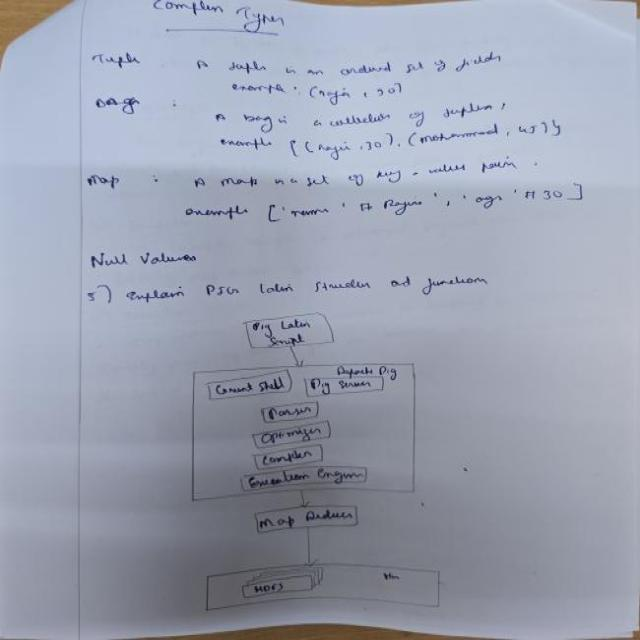Figure Detection - v3 Dataset Version2: (168, 307, 469, 627)
